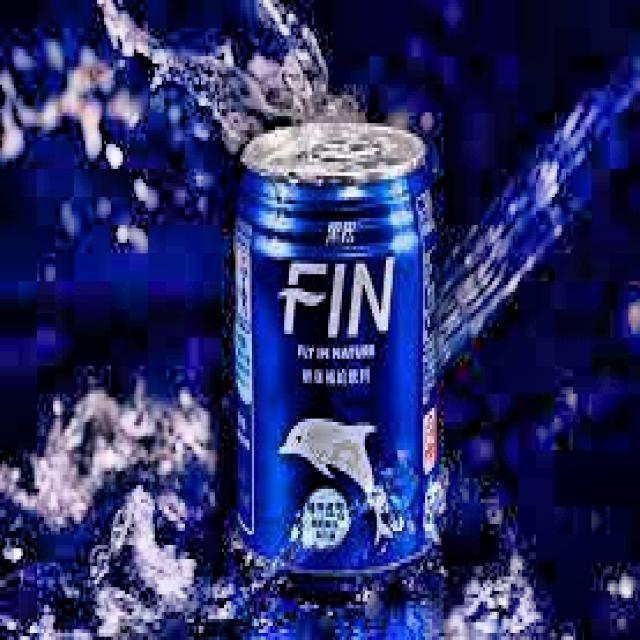can: (225, 100, 448, 589)
